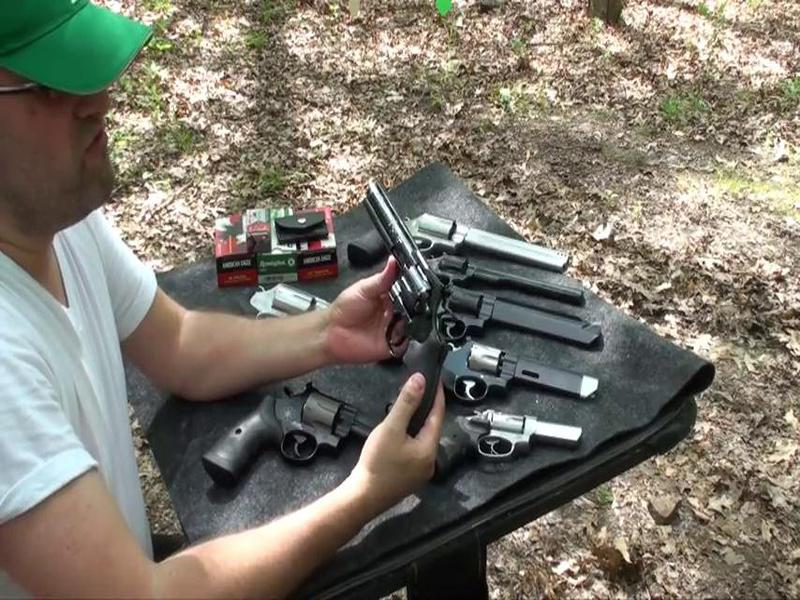Revolver: (335, 154, 477, 433)
